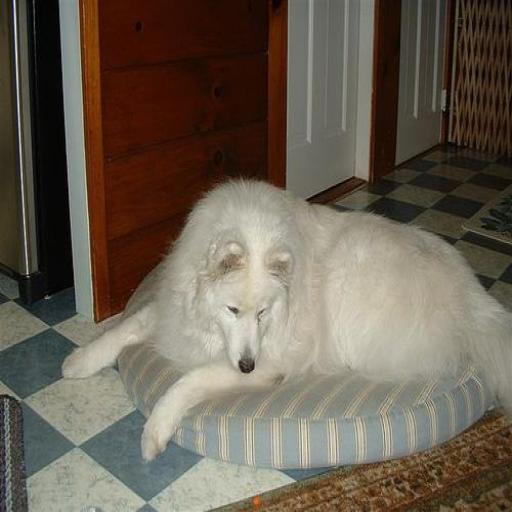dog_face: (190, 191, 292, 376)
